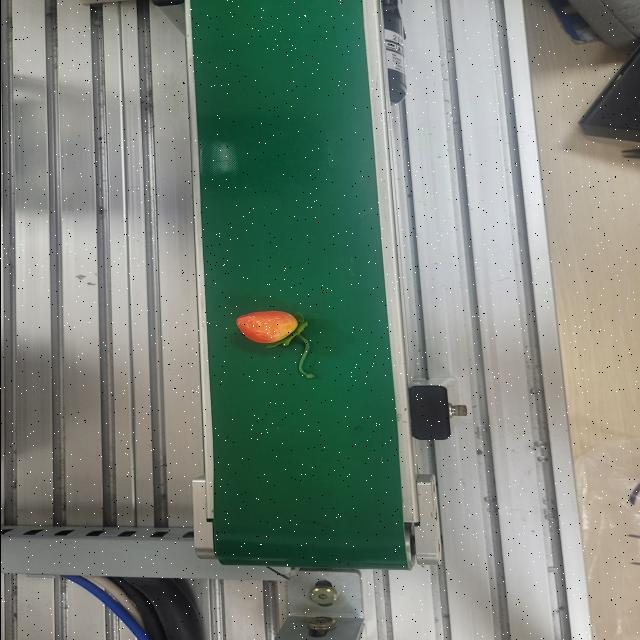Small Unripe Strawberry: (231, 307, 322, 380)
